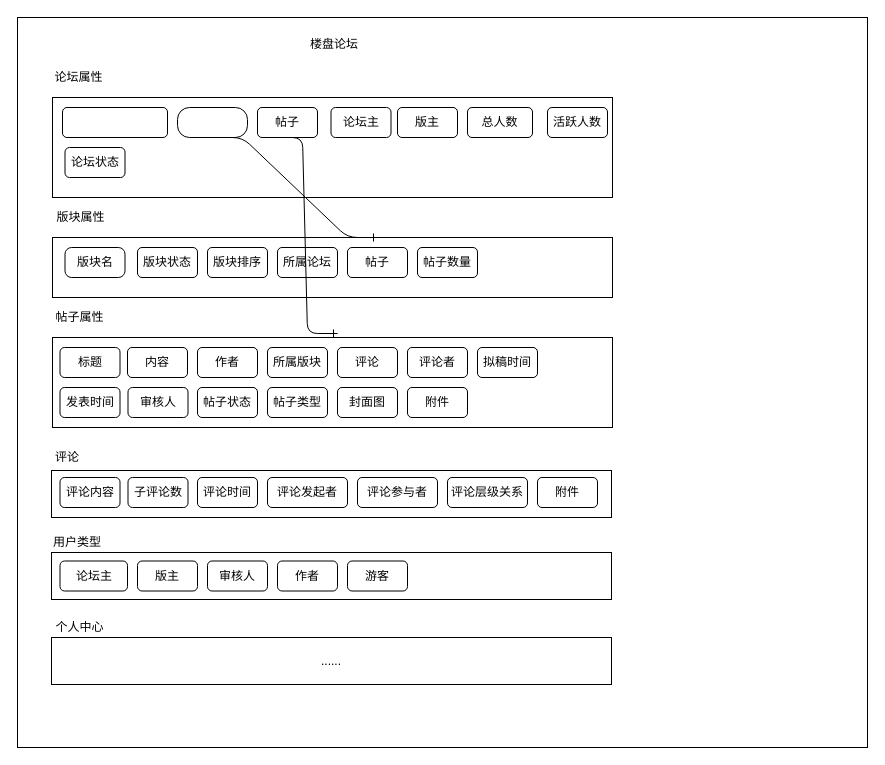
Image size: 885x765. Some labels were removed from this diagram. The centre of each missing label's shape, as x and y in pixels:
楼盘名（论坛名）: pixel 115 122
版块: pixel 212 122
